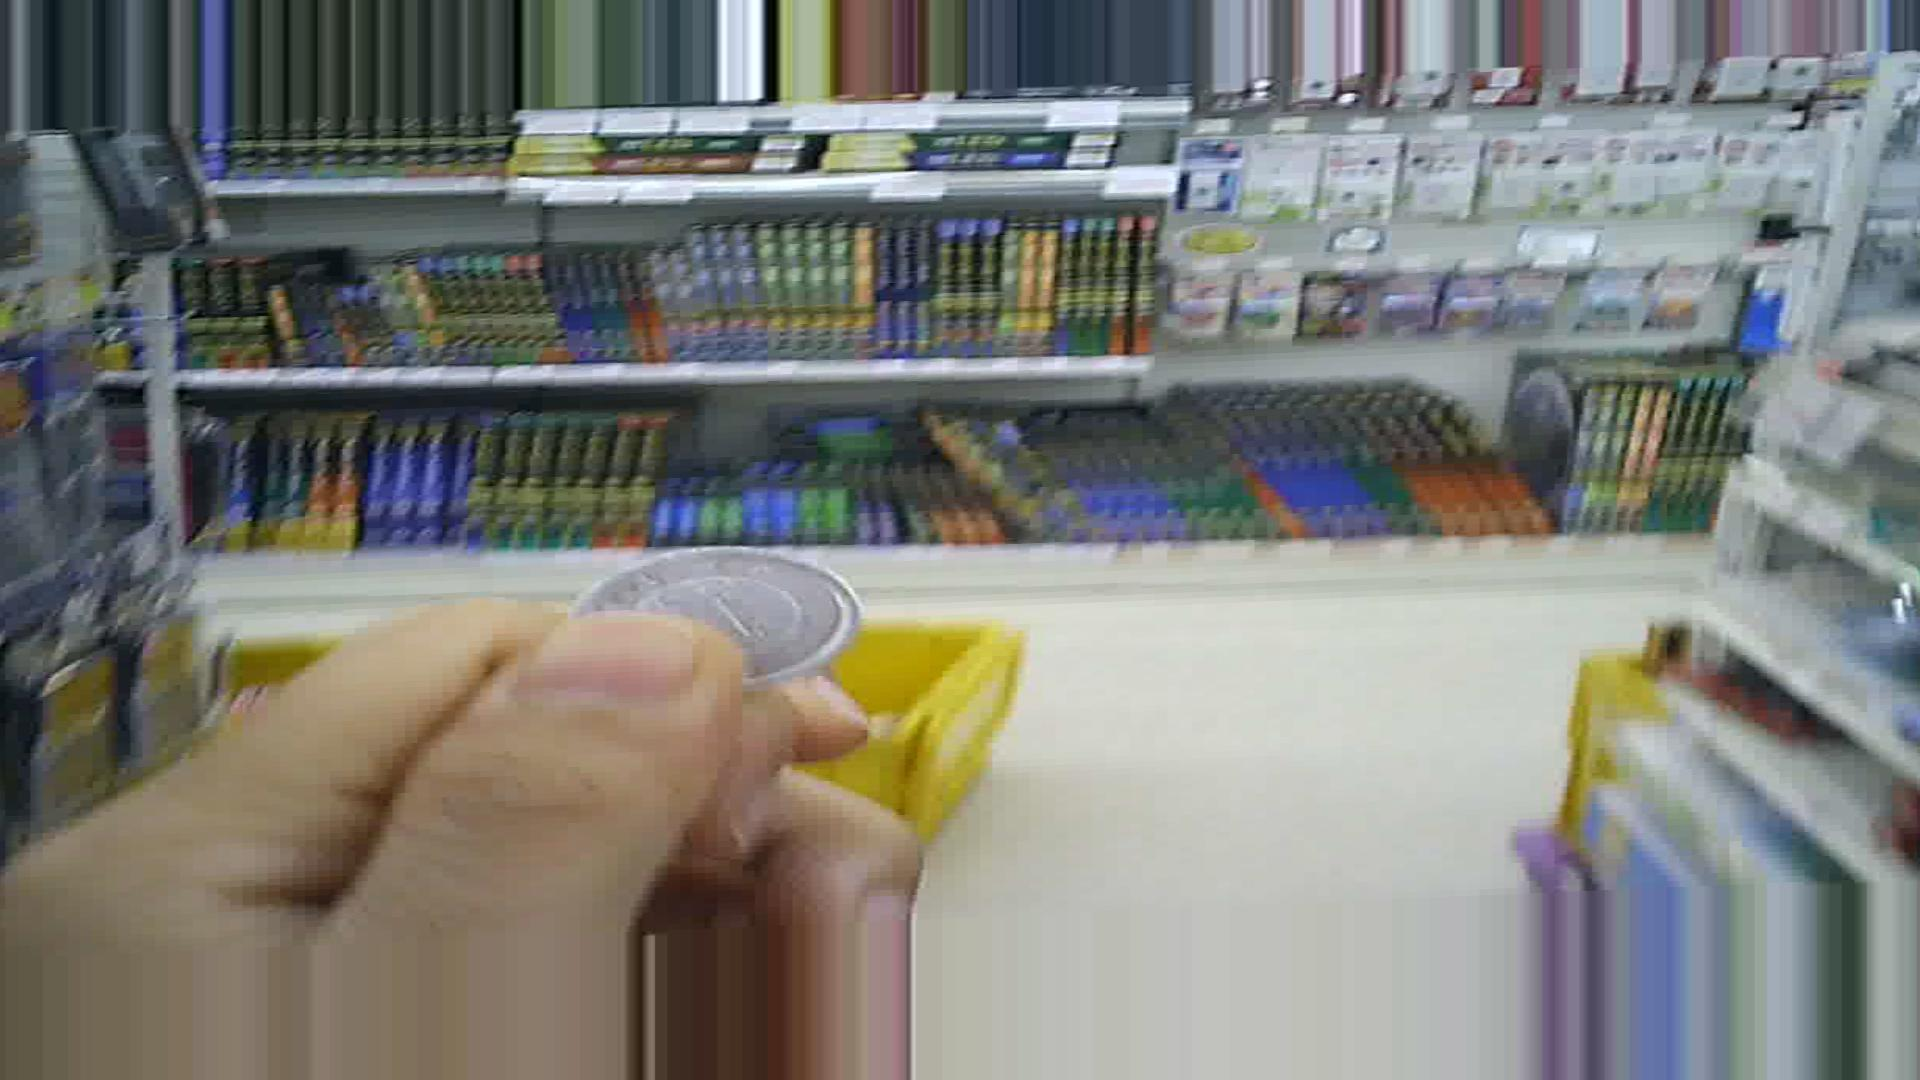1 Yen: (559, 535, 870, 711)
